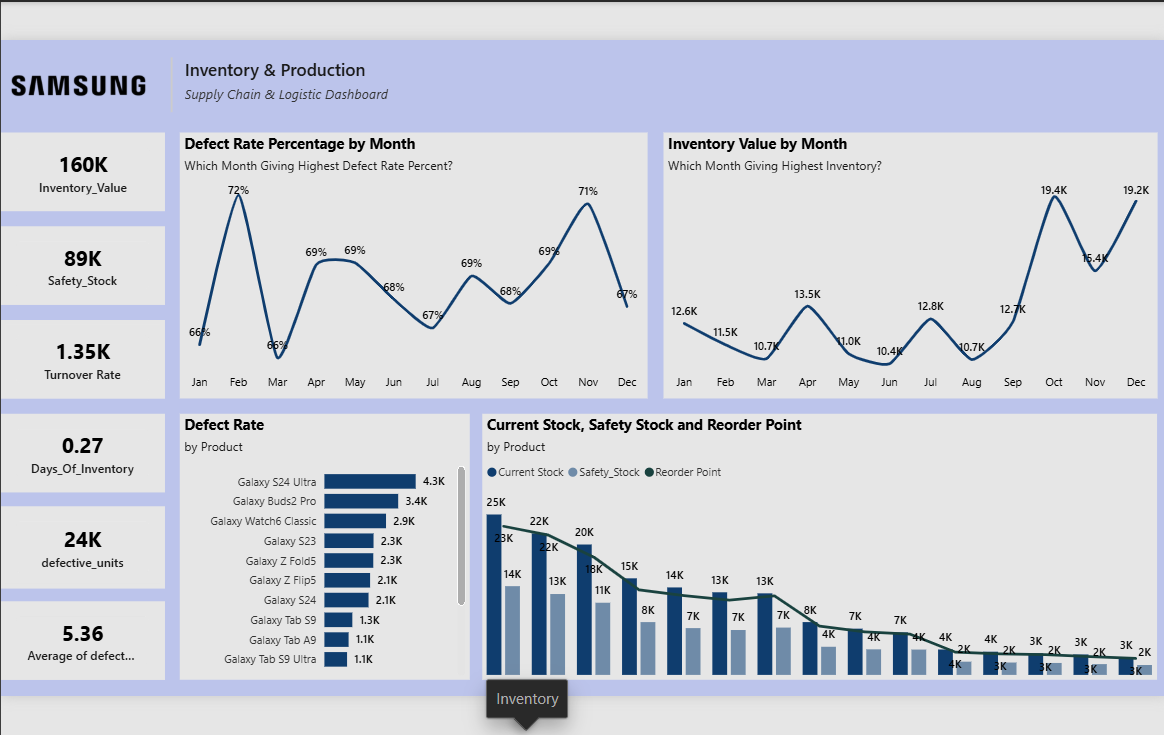

The page's visual inventory and layout, read from the dashboard file:
{"tool":"powerbi","page":{"name":"Inventory","canvas":[1280,720],"ordinal":3},"visuals":[{"type":"shape","title":"Inventory & Production","box":[201.7,18.8,278.6,60.4],"z":0},{"type":"shape","box":[172.9,18.8,28.8,60.4],"z":1000},{"type":"image","box":[0,18.8,163.3,60.4],"z":2000},{"type":"cardVisual","fields":{"Data":["Measures Table.Safety_Stock"]},"box":[0,204.5,179.8,86.4],"z":3000},{"type":"cardVisual","fields":{"Data":["Measures Table.Days_Of_Inventory"]},"box":[0,410.3,179.8,86.4],"z":4000},{"type":"cardVisual","fields":{"Data":["Sum(fact_production.defective_units)"]},"box":[0,511.8,179.8,90.6],"z":5000},{"type":"cardVisual","fields":{"Data":["Avg(fact_production.defective_units)"]},"box":[0,616.1,179.8,86.4],"z":6000},{"type":"cardVisual","fields":{"Data":["Measures Table.Inventory_Value"]},"box":[0,101.5,180,86.4],"z":7000},{"type":"clusteredBarChart","title":"Defect Rate","fields":{"Category":["dim_product.product_name"],"Y":["Measures Table.Defect_Rate"]},"box":[196.2,410.3,318.4,292.3],"z":8000},{"type":"cardVisual","fields":{"Data":["Measures Table.Turnover Rate"]},"box":[0,307.4,179.8,86.4],"z":9000},{"type":"lineClusteredColumnComboChart","title":"Current Stock, Safety Stock and Reorder Point","fields":{"Category":["dim_product.product_name"],"Y":["Measures Table.Inventory_Value","Measures Table.Safety_Stock"],"Y2":["Measures Table.Reorder Point"]},"box":[528.3,410.3,741,292.3],"z":10000},{"type":"lineChart","title":"Defect Rate Percentage by Month","fields":{"Y":["Avg(fact_production.defect_rate_pct)"],"Category":["dim_date.Month_Short"]},"box":[196.2,101.5,513.2,292.3],"z":11000},{"type":"lineChart","title":"Inventory Value by Month","fields":{"Category":["dim_date.Month_Short"],"Y":["Measures Table.Inventory_Value"]},"box":[727.3,101.5,542,292.3],"z":12000}]}

Visuals, with their boxes on the page's 1280x720 design canvas (x1, y1, x2, y2). These are canvas units, not pixel positions in the 1164x735 screenshot, which may show the page scaled, cropped or inside an application window:
"Inventory & Production" shape: 202,19,480,79
shape: 173,19,202,79
image: 0,19,163,79
cardVisual - Measures Table.Safety_Stock: 0,204,180,291
cardVisual - Measures Table.Days_Of_Inventory: 0,410,180,497
cardVisual - Sum(fact_production.defective_units): 0,512,180,602
cardVisual - Avg(fact_production.defective_units): 0,616,180,702
cardVisual - Measures Table.Inventory_Value: 0,102,180,188
"Defect Rate" clusteredBarChart: 196,410,515,703
cardVisual - Measures Table.Turnover Rate: 0,307,180,394
"Current Stock, Safety Stock and Reorder Point" lineClusteredColumnComboChart: 528,410,1269,703
"Defect Rate Percentage by Month" lineChart: 196,102,709,394
"Inventory Value by Month" lineChart: 727,102,1269,394
